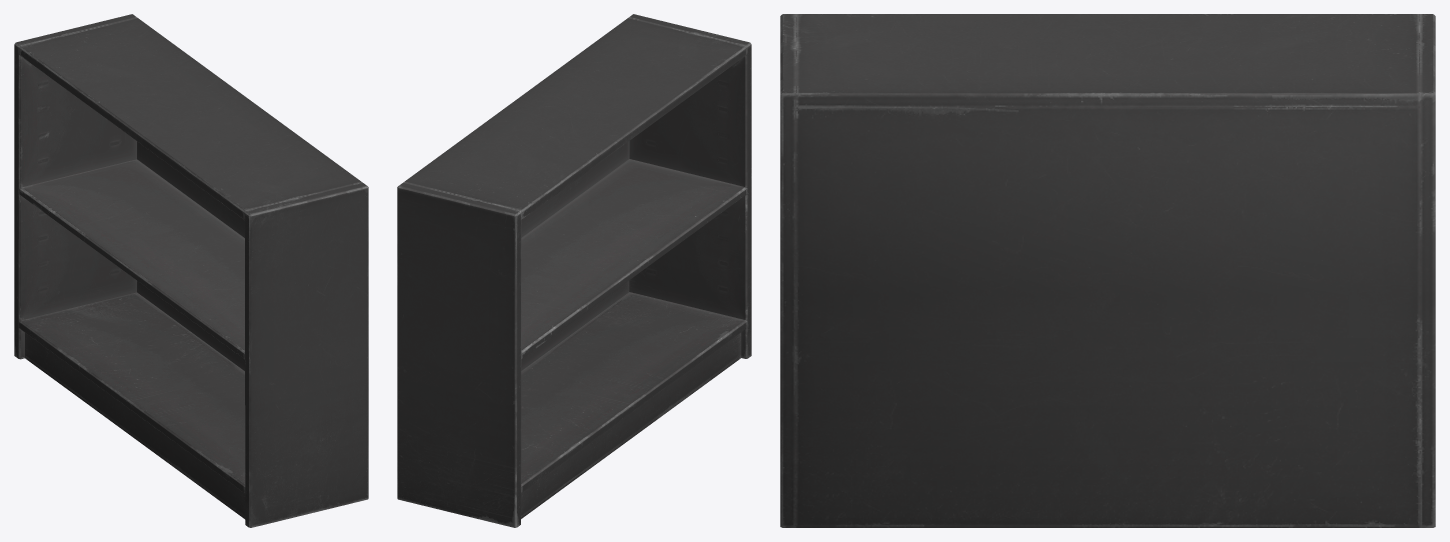
The model's file is SM_Shelf_06a.fbx.
3 views of the same model, side by side, from view 1: azimuth 30°, elevation 25°; view 2: azimuth 150°, elevation 25°; view 3: azimuth 270°, elevation 25° (orthographic). The views are drawn at different scales.
Visible parts, largest first — view 1: SM_Shelf_06a_LOD0; view 2: SM_Shelf_06a_LOD0; view 3: SM_Shelf_06a_LOD0.
Part boxes in pixels (<box>): SM_Shelf_06a_LOD0: <box>14,14,368,527</box>; SM_Shelf_06a_LOD0: <box>397,14,751,527</box>; SM_Shelf_06a_LOD0: <box>780,14,1435,527</box>.
Size of the model in its own units: 40.89 by 140 by 102.
1 material, 1 textured.
